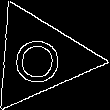O_N: (14, 30, 65, 84)
